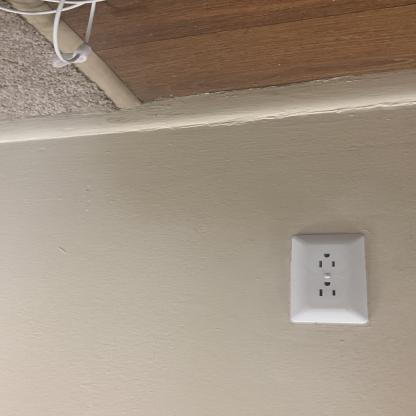OUTLET: (291, 235, 368, 324)
